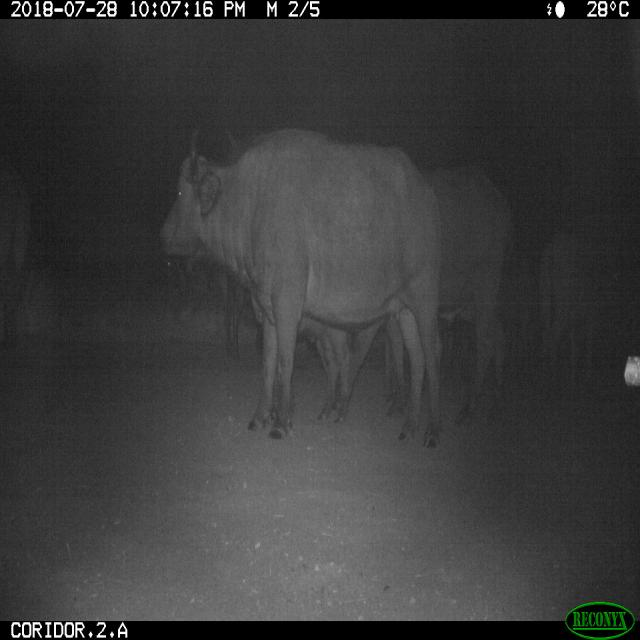buffalo: (180, 128, 457, 443)
